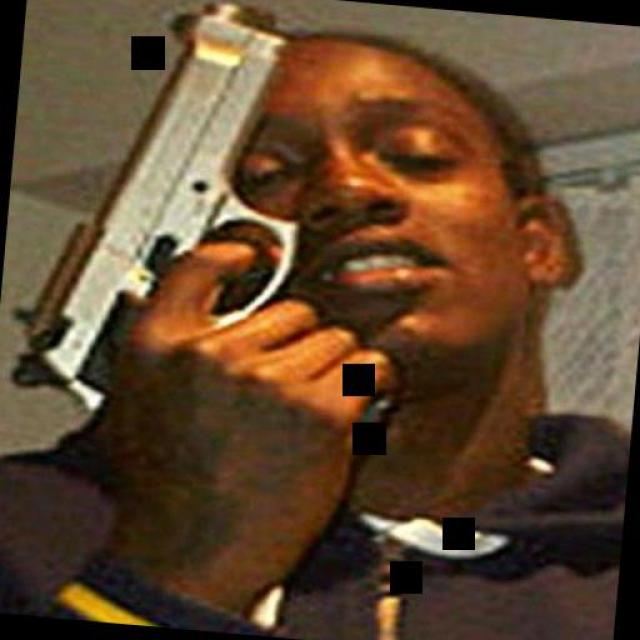gun: (1, 0, 419, 469)
